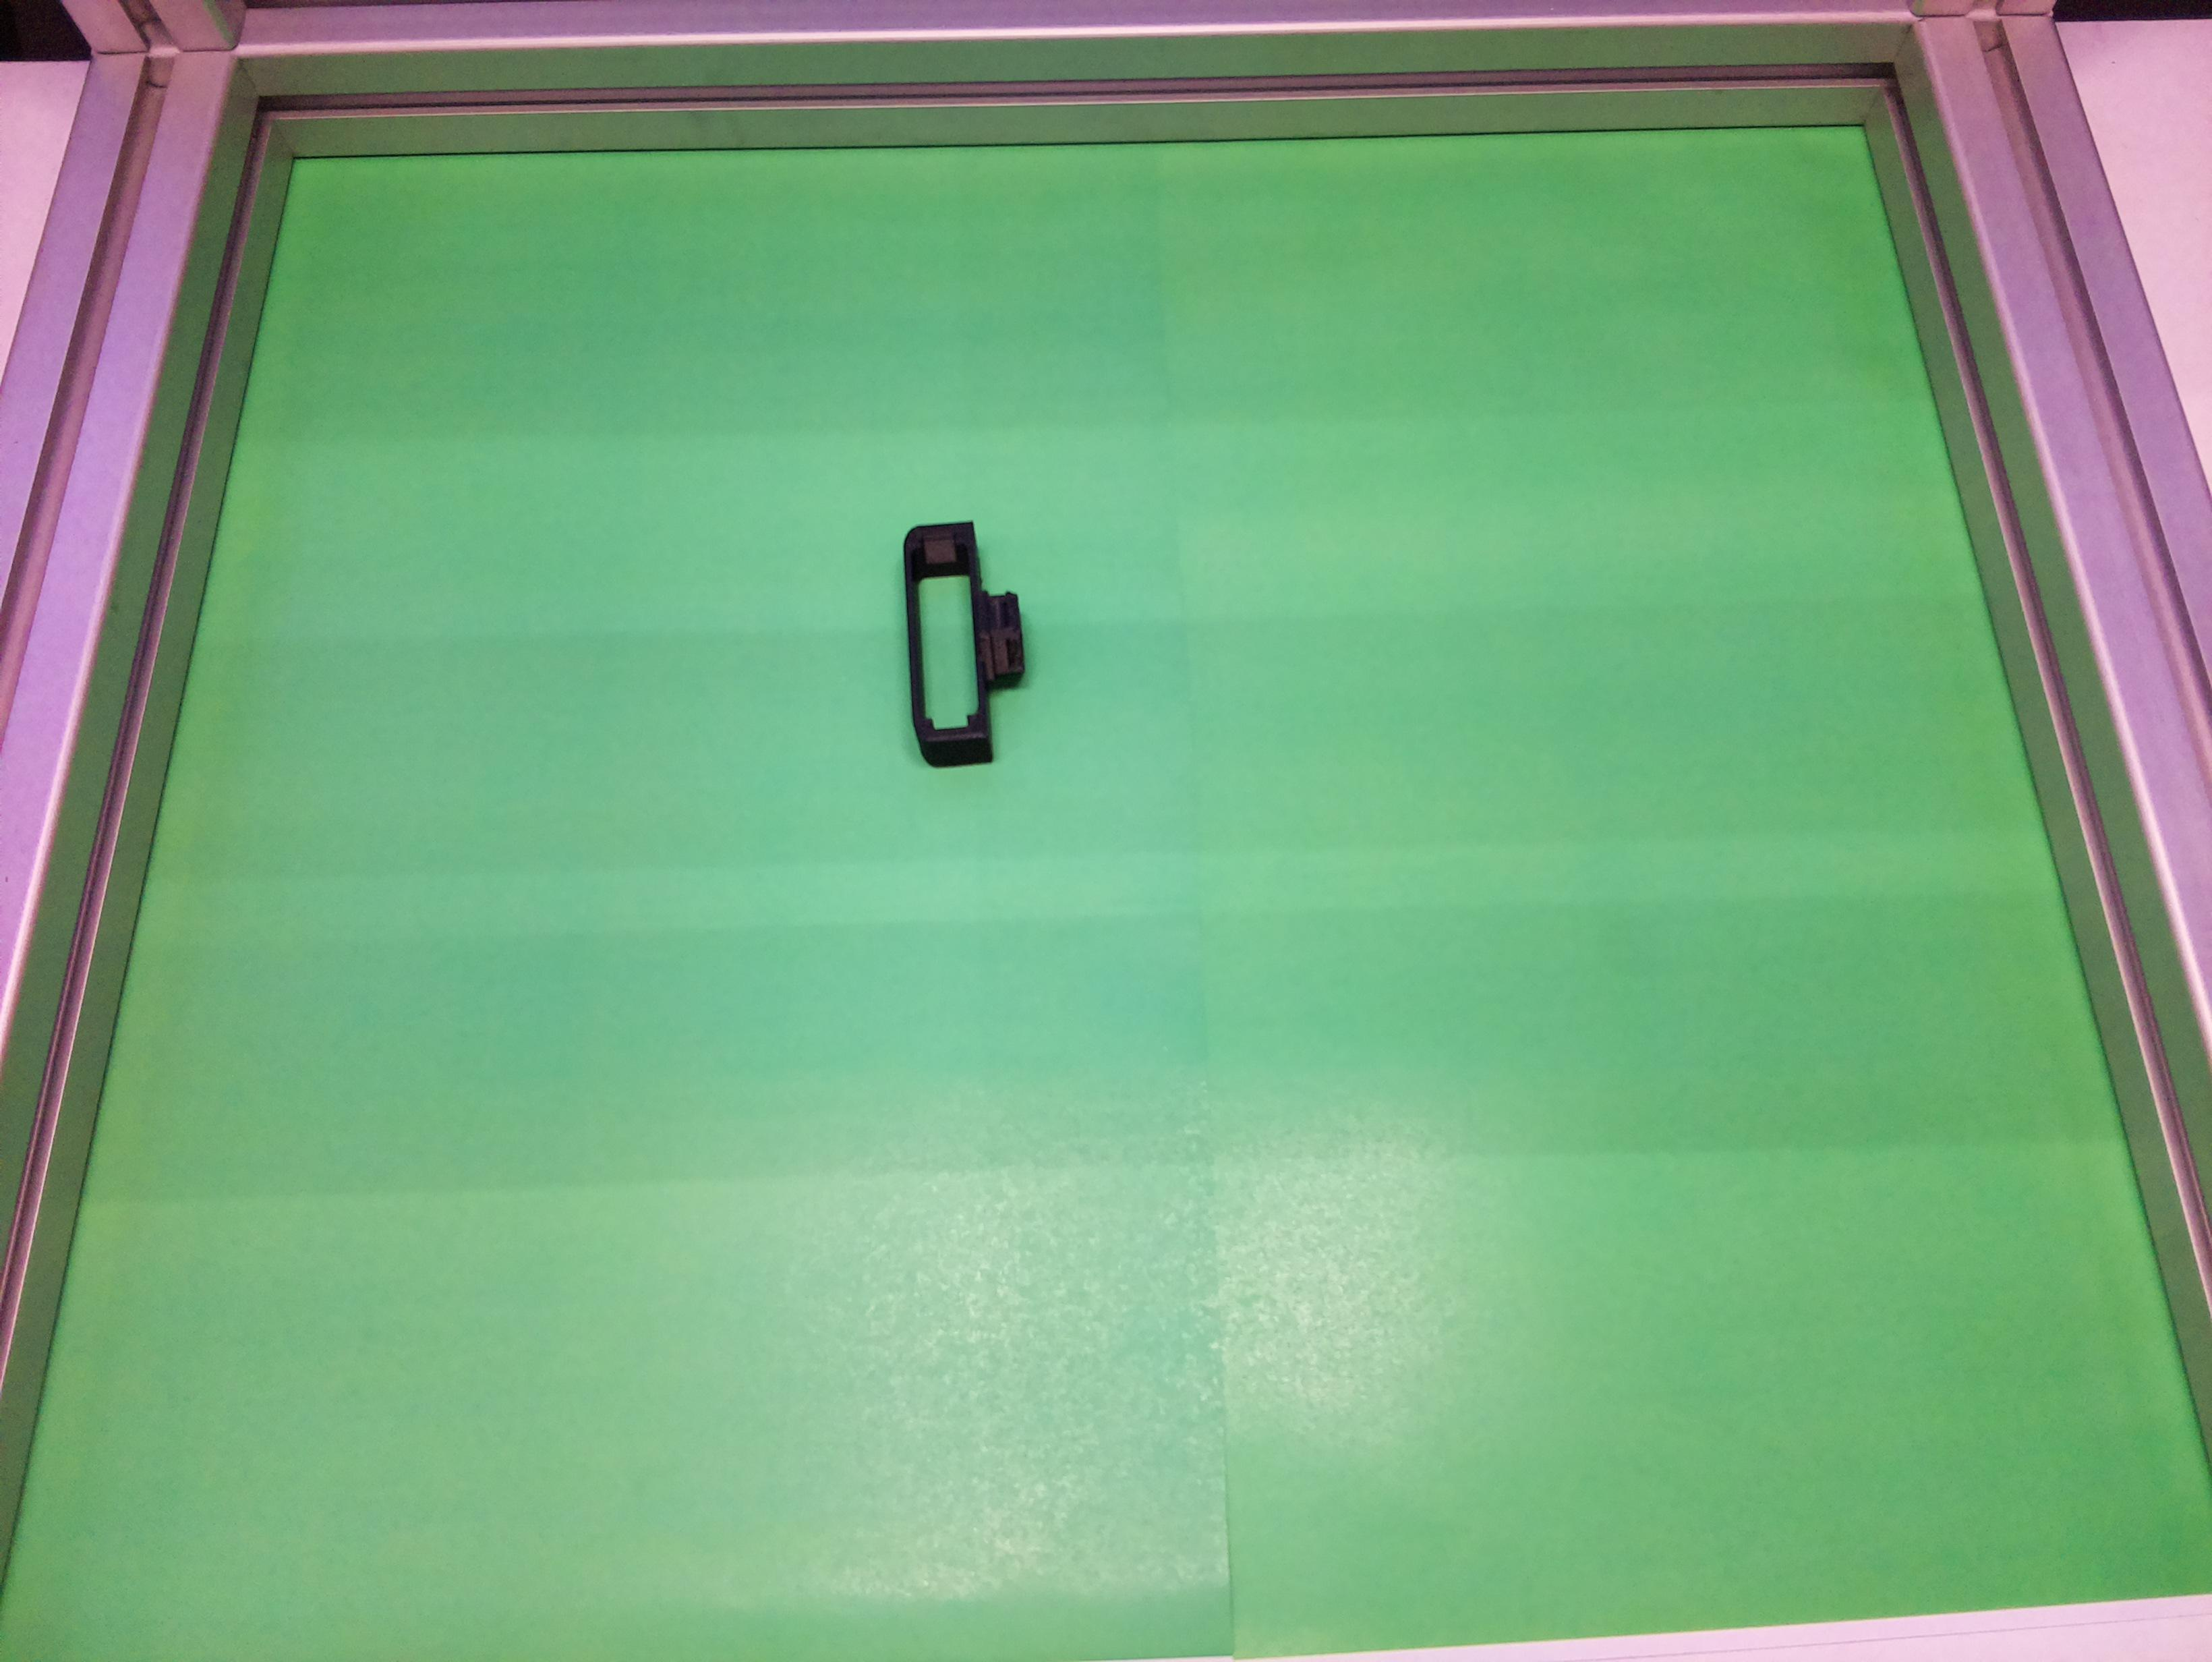cutter_holder: (897, 520, 1030, 766)
